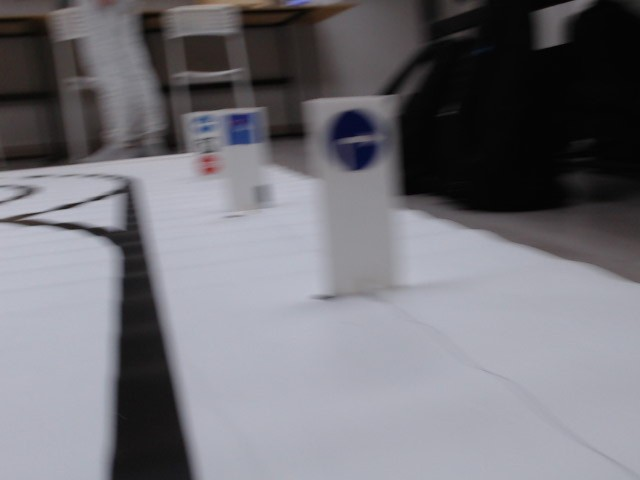Right: (329, 108, 381, 172)
